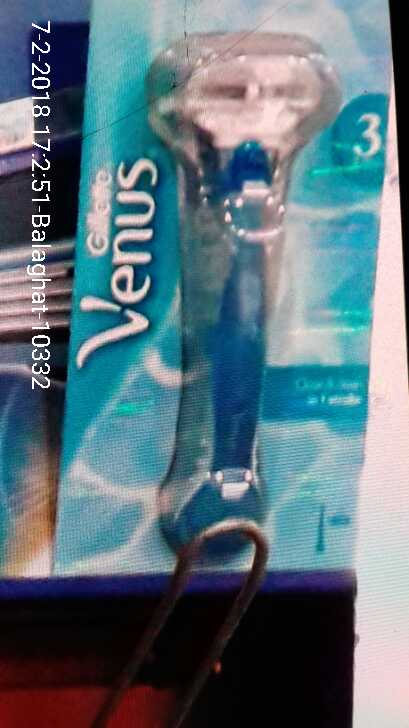venus: (133, 21, 343, 558)
